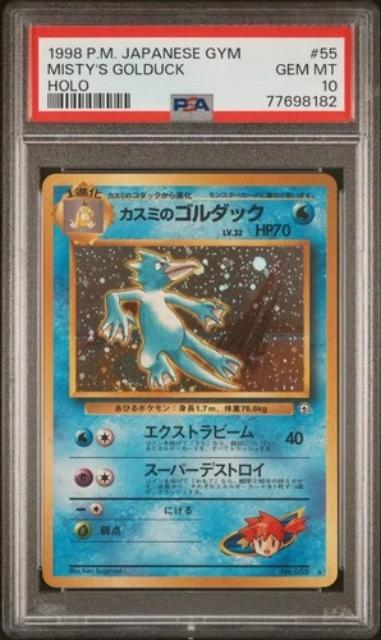Card: (37, 170, 344, 591)
Name: (116, 199, 270, 229)
